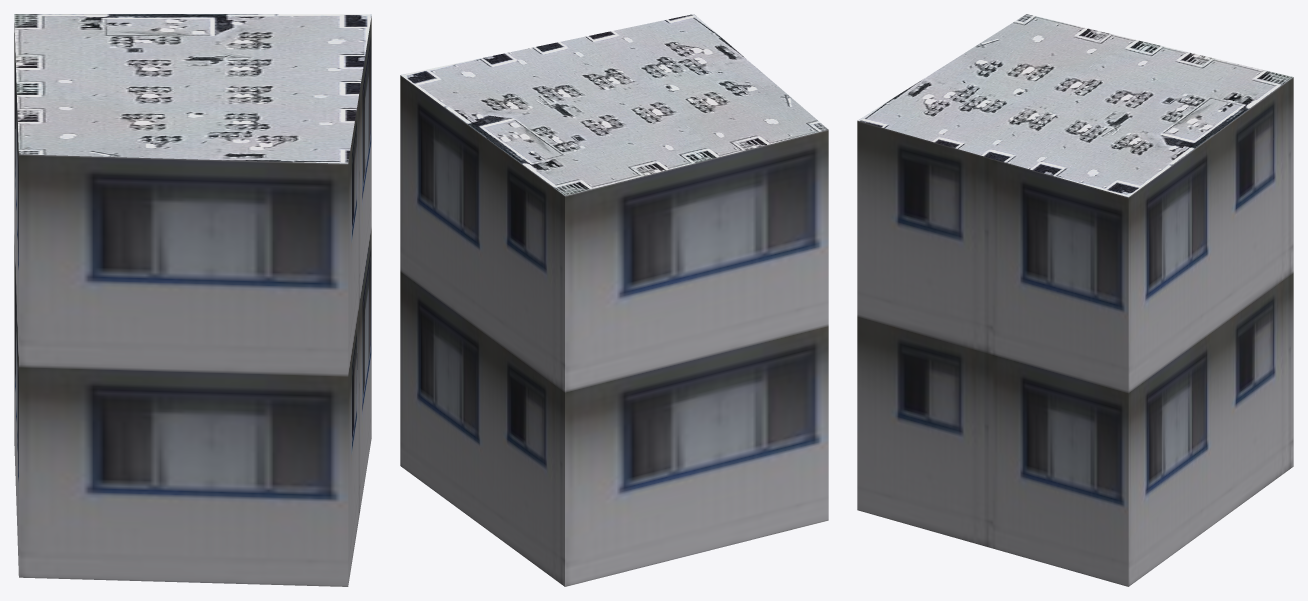
Rendered from ResTex__786.fbx.
3 renders of one model, left to right at view 1: azimuth 30°, elevation 25°; view 2: azimuth 150°, elevation 25°; view 3: azimuth 270°, elevation 25°, orthographic. The views are drawn at different scales.
Parts seen in each view (by area): view 1: CityEngineMaterial_9_m, CityEngineMaterial_4_m; view 2: CityEngineMaterial_9_m, CityEngineMaterial_4_m; view 3: CityEngineMaterial_9_m, CityEngineMaterial_4_m.
Boxes of the visible parts, box(x1,y1,x2,y2) form: CityEngineMaterial_9_m: box(14, 16, 371, 586); CityEngineMaterial_4_m: box(14, 14, 371, 163); CityEngineMaterial_9_m: box(400, 75, 828, 586); CityEngineMaterial_4_m: box(400, 14, 828, 195); CityEngineMaterial_9_m: box(857, 77, 1293, 586); CityEngineMaterial_4_m: box(858, 14, 1292, 197).
Size of the model in its own units: 6.06 by 6 by 6.09.
Materials: 2 (2 with a texture image).
